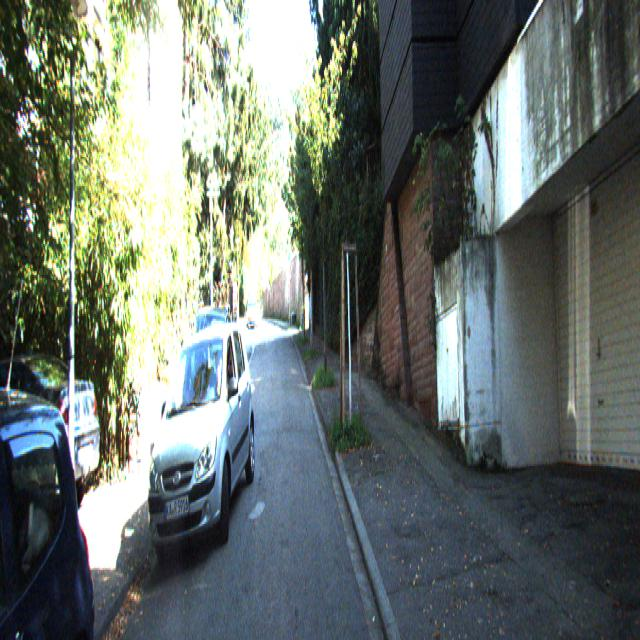Car: (0, 358, 109, 638), (141, 307, 256, 563), (0, 332, 108, 542), (248, 298, 260, 334)
